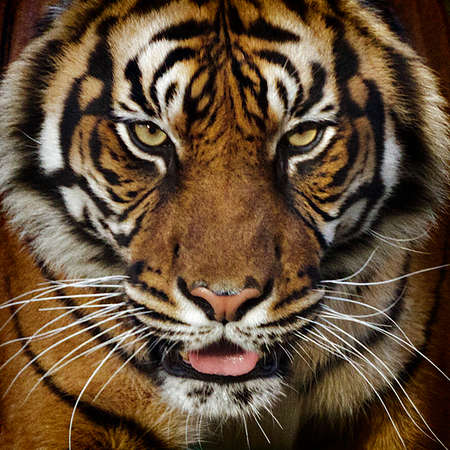Tigrew: (6, 13, 422, 432)
